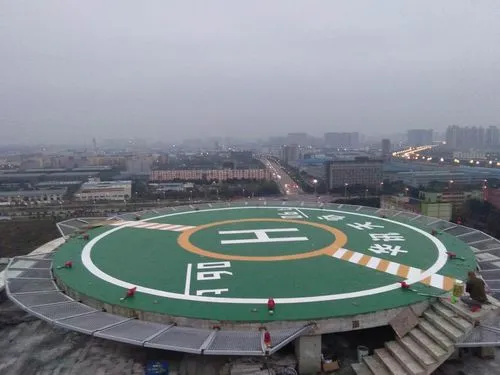Apron: (176, 218, 348, 262)
